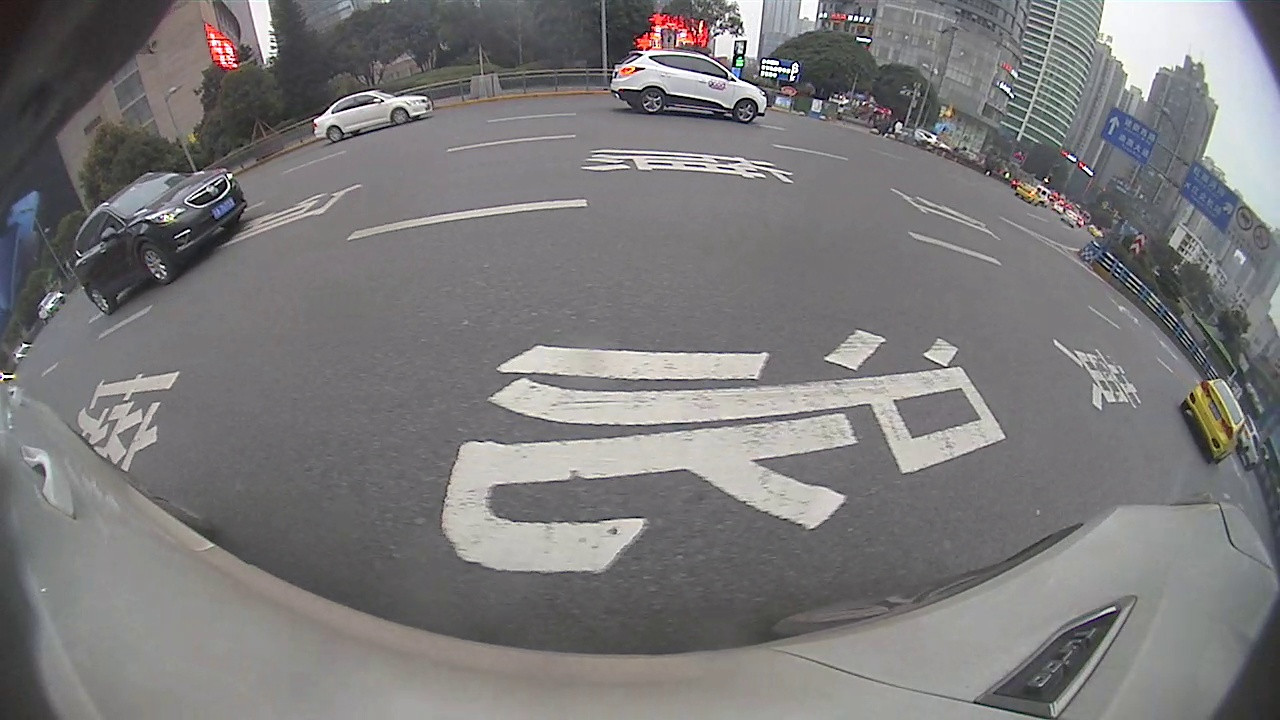car: (71, 168, 247, 318), (608, 48, 771, 126), (312, 88, 435, 145), (1178, 378, 1248, 465)
front: (138, 241, 174, 284), (731, 96, 759, 124), (390, 106, 409, 124)
rear: (82, 288, 117, 315), (639, 86, 665, 114), (327, 124, 342, 142)
